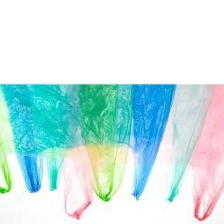plastic_bag: (57, 81, 224, 222), (0, 82, 179, 207), (44, 82, 212, 203), (0, 83, 132, 208)
